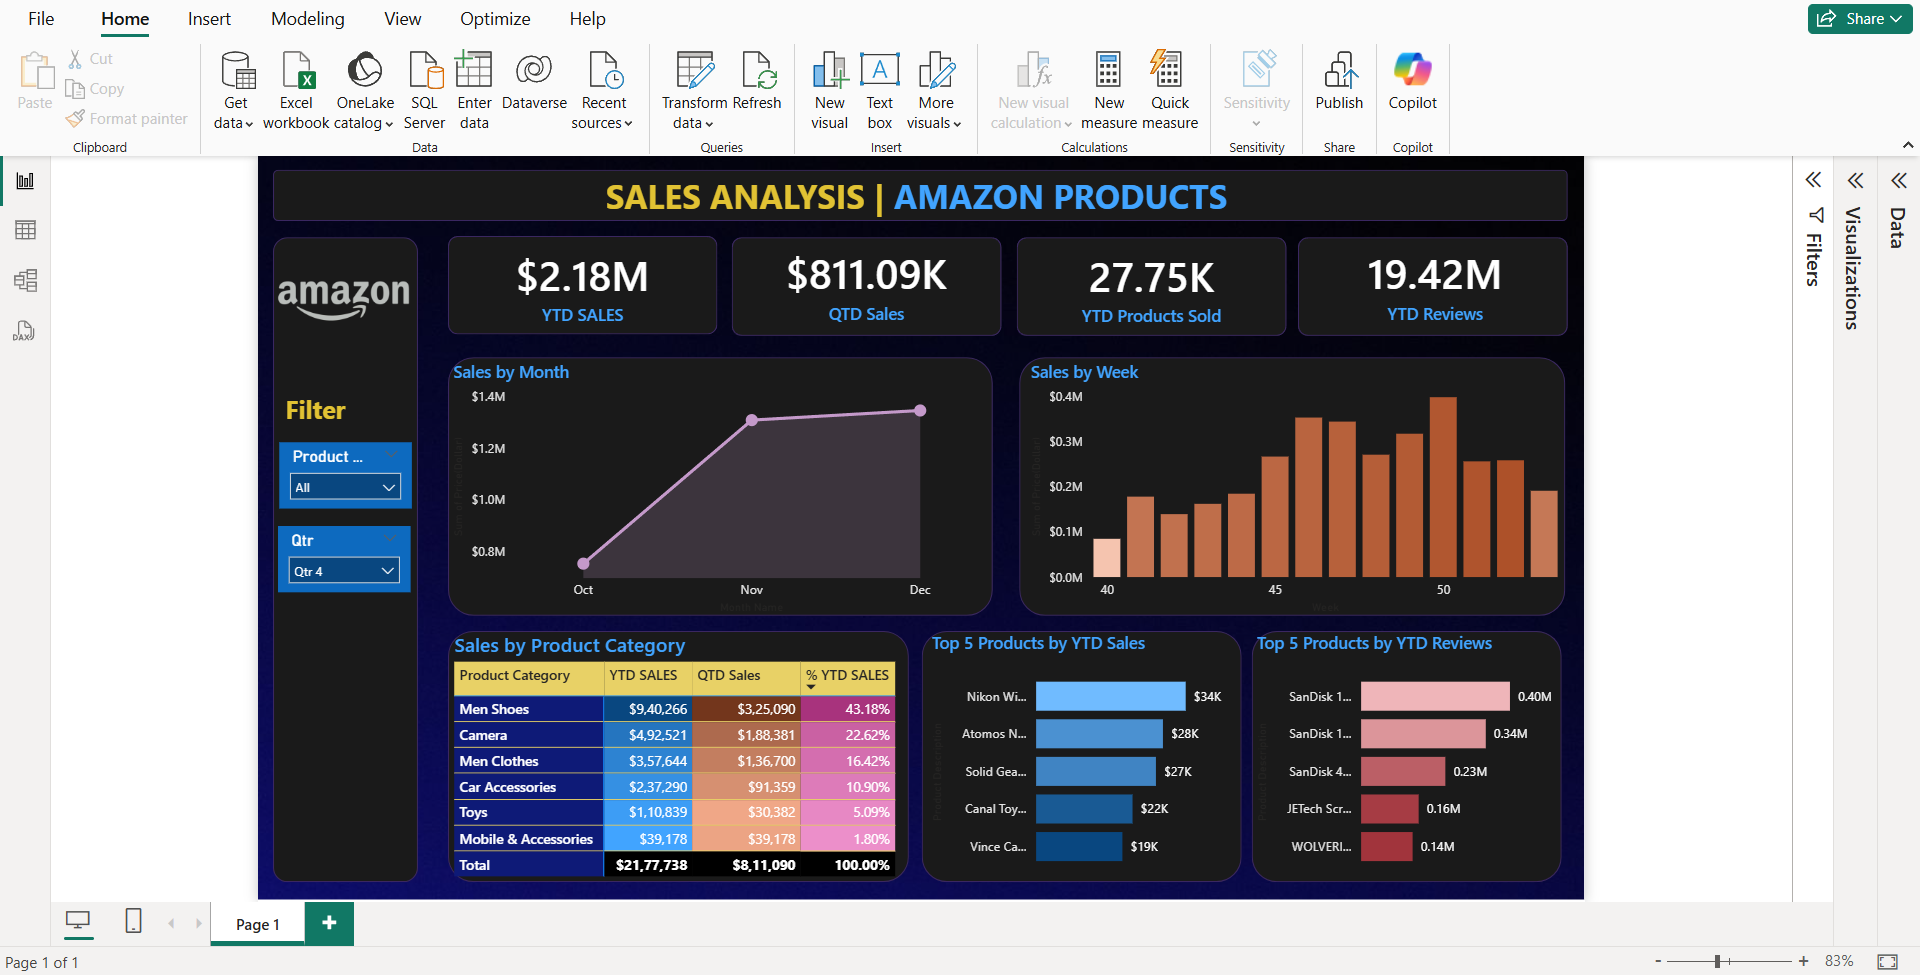

The page's visual inventory and layout, read from the dashboard file:
{"tool":"powerbi","page":{"name":"Page 1","canvas":[1280,720],"ordinal":0},"visuals":[{"type":"shape","box":[457.2,78.4,260.6,95.3],"z":0},{"type":"card","fields":{"Values":["Amazon_Data.QTD Sales"]},"box":[465.7,76,243.7,95.3],"z":1000},{"type":"shape","box":[14.5,13.3,1249.9,49.5],"z":2000},{"type":"shape","box":[183.4,77.2,260,95],"z":3000},{"type":"textbox","box":[330.6,12.1,618.9,54.3],"z":4000},{"type":"card","fields":{"Values":["Amazon_Data.YTD SALES"]},"box":[191.8,77.2,243.7,95.3],"z":5000},{"type":"shape","box":[14.5,78.4,139.9,622.5],"z":6000},{"type":"shape","box":[731.7,78.4,260.6,95.3],"z":7000},{"type":"card","fields":{"Values":["Amazon_Data.YTD Products Sold"]},"box":[740.8,78.4,243.7,95.3],"z":8000},{"type":"shape","box":[1003.8,78.4,260.6,95.3],"z":9000},{"type":"card","fields":{"Values":["Amazon_Data.YTD Reviews"]},"box":[1014.6,76,243.7,95.3],"z":10000},{"type":"shape","box":[183.4,194.2,526,249.7],"z":11000},{"type":"areaChart","title":"Sales by Month","fields":{"Category":["Date Table.Month Name"],"Y":["Sum(Amazon_Data.Price(Dollar))"]},"box":[183.4,196.6,526,249.7],"z":12000},{"type":"shape","box":[734.7,194.2,527.2,249.7],"z":13000},{"type":"columnChart","title":"Sales by Week","fields":{"Category":["Date Table.Week"],"Y":["Sum(Amazon_Data.Price(Dollar))"]},"box":[740.8,196.6,518.8,249.7],"z":14000},{"type":"shape","title":"Sales by Product Category","box":[183.4,458.4,445.2,242.5],"z":15000},{"type":"pivotTable","title":"Sales by Product Category","fields":{"Rows":["Amazon_Data.Product Category"],"Values":["Amazon_Data.YTD SALES1","Amazon_Data.QTD Sales","Amazon_Data.YTD SALES"]},"box":[184.6,458.4,445.2,242.5],"z":16000},{"type":"shape","title":"Sales by Product Category","box":[640.6,458.4,308.8,242.5],"z":17000},{"type":"shape","title":"Sales by Product Category","box":[959.1,458.4,299.2,242.5],"z":18000},{"type":"clusteredBarChart","title":"Top 5 Products by YTD Sales","fields":{"Category":["Amazon_Data.Product Description"],"Y":["Amazon_Data.YTD SALES"]},"box":[644.9,458.3,300.5,242.9],"z":19000},{"type":"clusteredBarChart","title":"Top 5 Products by YTD Reviews","fields":{"Category":["Amazon_Data.Product Description"],"Y":["Amazon_Data.YTD Reviews"]},"box":[959.2,458.3,300.5,242.9],"z":20000},{"type":"slicer","fields":{"Values":["Amazon_Data.Product Category"]},"box":[20.5,276.3,127.9,63.9],"z":21000},{"type":"slicer","fields":{"Values":["Date Table.Qtr"]},"box":[19.3,357.1,127.9,63.9],"z":22000},{"type":"image","box":[7.2,62.7,154.4,160.5],"z":23000},{"type":"textbox","box":[20.5,223.2,70,43.4],"z":23001}]}

Visuals, with their boxes on the page's 1280x720 design canvas (x1, y1, x2, y2). These are canvas units, not pixel positions in the 1920x975 screenshot, which may show the page scaled, cropped or inside an application window:
shape: [x1=457, y1=78, x2=718, y2=174]
card - Amazon_Data.QTD Sales: [x1=466, y1=76, x2=709, y2=171]
shape: [x1=14, y1=13, x2=1264, y2=63]
shape: [x1=183, y1=77, x2=443, y2=172]
textbox: [x1=331, y1=12, x2=950, y2=66]
card - Amazon_Data.YTD SALES: [x1=192, y1=77, x2=436, y2=172]
shape: [x1=14, y1=78, x2=154, y2=701]
shape: [x1=732, y1=78, x2=992, y2=174]
card - Amazon_Data.YTD Products Sold: [x1=741, y1=78, x2=984, y2=174]
shape: [x1=1004, y1=78, x2=1264, y2=174]
card - Amazon_Data.YTD Reviews: [x1=1015, y1=76, x2=1258, y2=171]
shape: [x1=183, y1=194, x2=709, y2=444]
"Sales by Month" areaChart: [x1=183, y1=197, x2=709, y2=446]
shape: [x1=735, y1=194, x2=1262, y2=444]
"Sales by Week" columnChart: [x1=741, y1=197, x2=1260, y2=446]
"Sales by Product Category" shape: [x1=183, y1=458, x2=629, y2=701]
"Sales by Product Category" pivotTable: [x1=185, y1=458, x2=630, y2=701]
"Sales by Product Category" shape: [x1=641, y1=458, x2=949, y2=701]
"Sales by Product Category" shape: [x1=959, y1=458, x2=1258, y2=701]
"Top 5 Products by YTD Sales" clusteredBarChart: [x1=645, y1=458, x2=945, y2=701]
"Top 5 Products by YTD Reviews" clusteredBarChart: [x1=959, y1=458, x2=1260, y2=701]
slicer - Amazon_Data.Product Category: [x1=20, y1=276, x2=148, y2=340]
slicer - Date Table.Qtr: [x1=19, y1=357, x2=147, y2=421]
image: [x1=7, y1=63, x2=162, y2=223]
textbox: [x1=20, y1=223, x2=90, y2=267]
